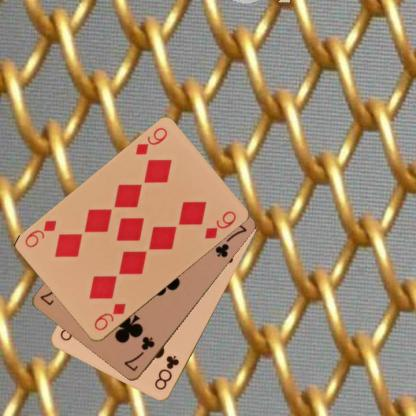7c: (121, 334, 156, 373)
8c: (152, 353, 180, 392)
9d: (132, 125, 169, 158), (91, 300, 127, 333)
